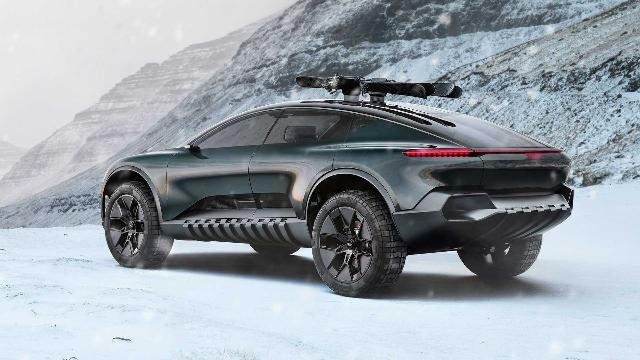alpha-romeo: (100, 74, 574, 298)
